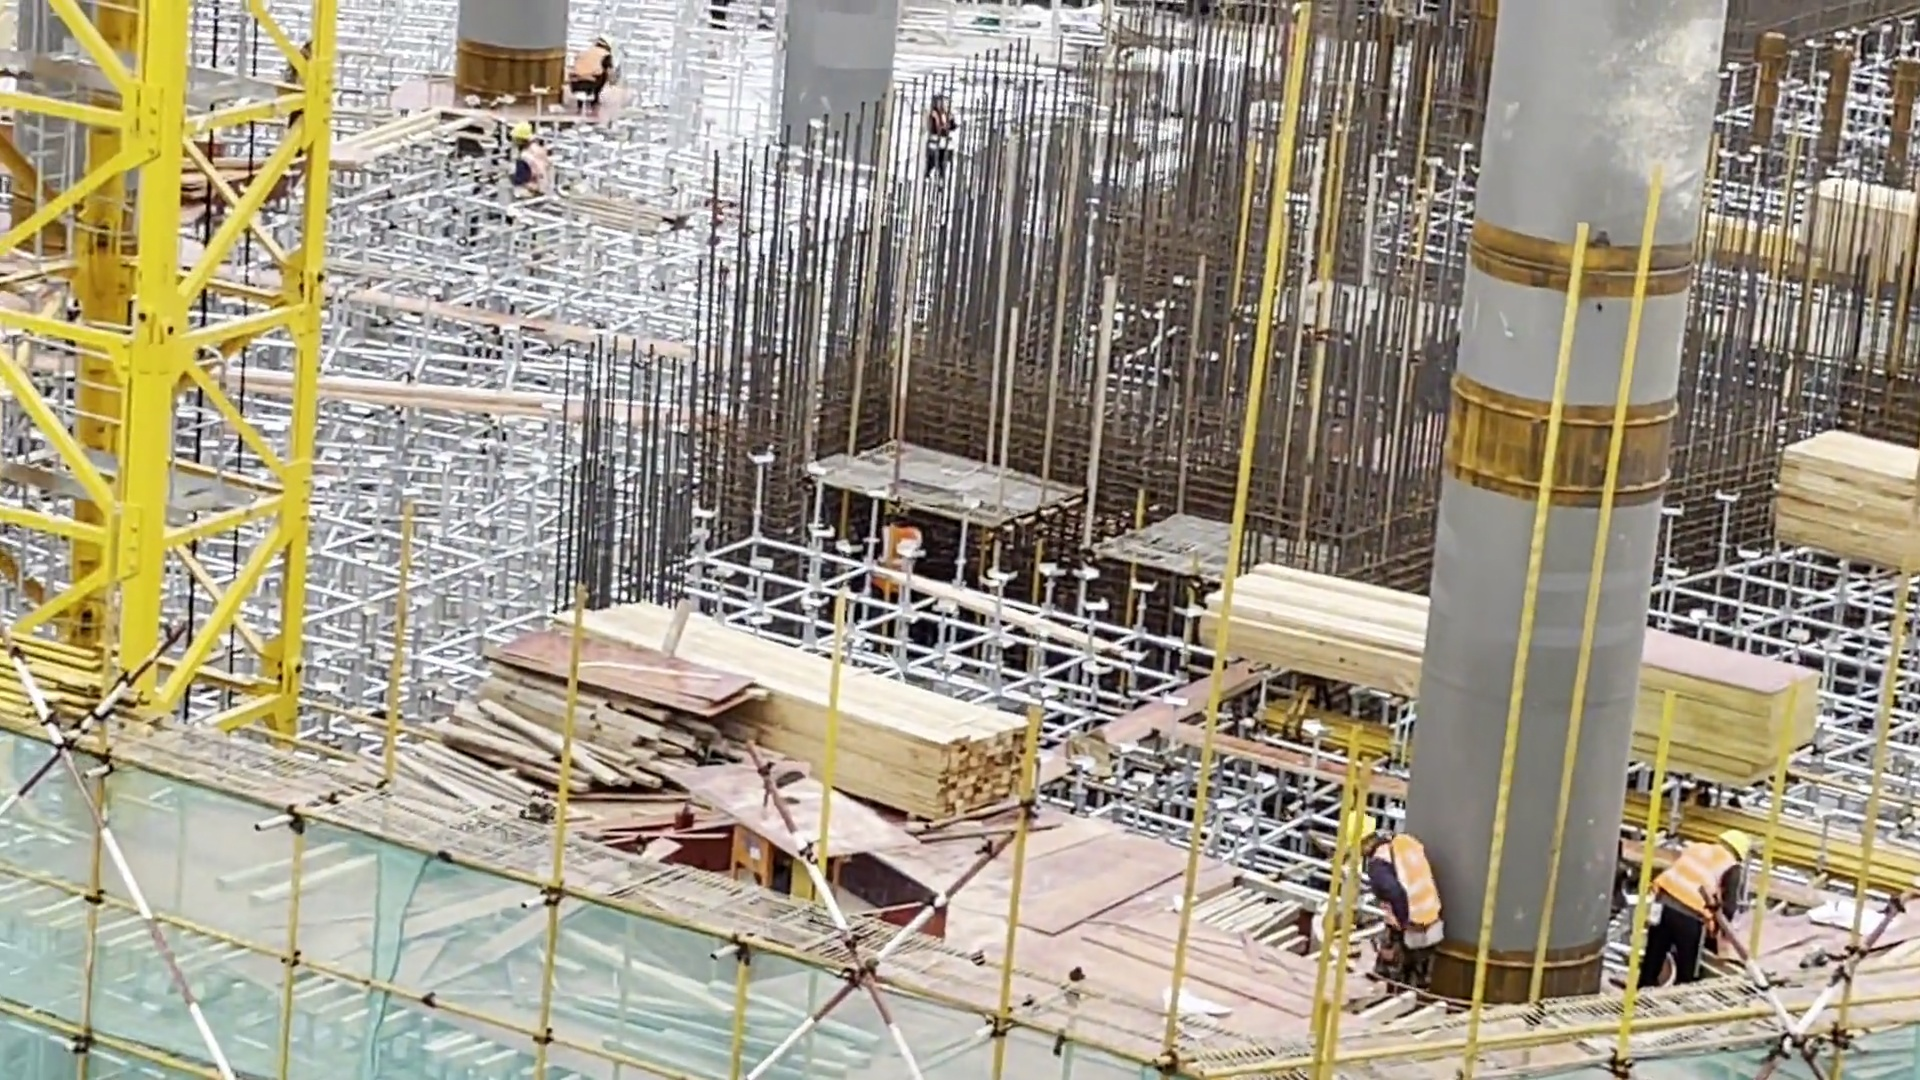cutter: (681, 770, 922, 903)
helmet: (1716, 812, 1759, 866), (1329, 808, 1383, 846), (505, 115, 540, 143), (588, 28, 612, 51)
person: (1320, 806, 1451, 981), (1649, 802, 1771, 974), (500, 119, 564, 201), (572, 24, 618, 113), (926, 97, 962, 194)
vest: (1368, 848, 1450, 933), (1663, 835, 1727, 916), (515, 143, 551, 178), (578, 47, 606, 83)
wood: (574, 601, 1027, 815), (397, 667, 726, 798)
